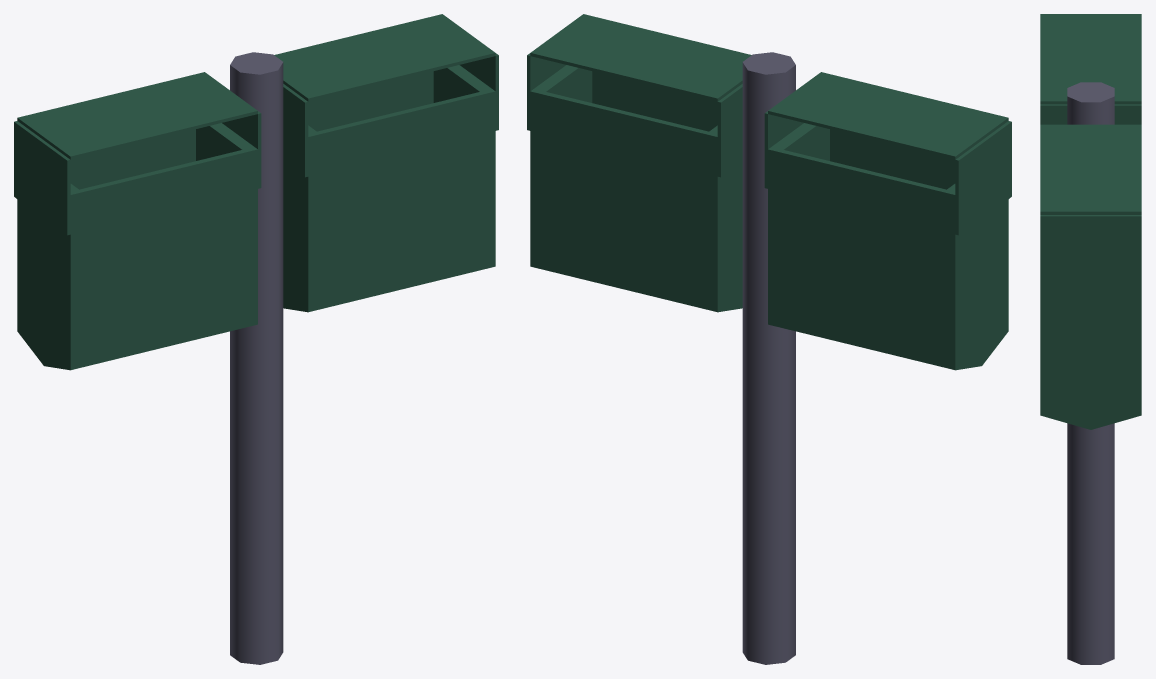
The model's file is DoubleTrash.fbx.
The picture shows the model from 3 angles, left to right: view 1: azimuth 30°, elevation 25°; view 2: azimuth 150°, elevation 25°; view 3: azimuth 270°, elevation 25°; orthographic projection. The views are drawn at different scales.
Visible parts, largest first — view 1: DoubleTrash; view 2: DoubleTrash; view 3: DoubleTrash.
Part boxes in pixels (x1,y1,x2,y2): DoubleTrash: [14, 14, 498, 664]; DoubleTrash: [527, 14, 1011, 664]; DoubleTrash: [1040, 14, 1141, 664].
Bounding box in the file's own units: 195 × 254 × 41.48.
